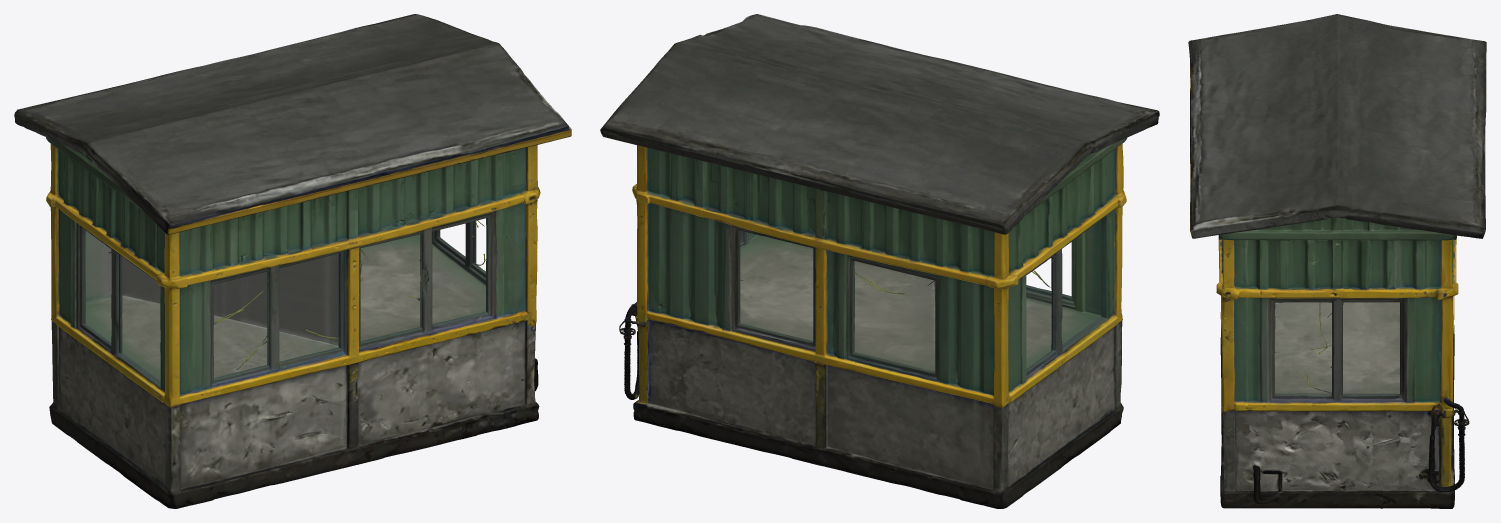
The model's file is booth.glb.
The picture shows the model from 3 angles, left to right: view 1: azimuth 30°, elevation 25°; view 2: azimuth 150°, elevation 25°; view 3: azimuth 270°, elevation 25°; orthographic projection. The views are drawn at different scales.
Bounding box in the file's own units: 0.9819 × 0.7375 × 0.6362.
1 material, 1 textured.
